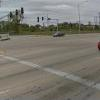Car: (48, 27, 68, 46)
